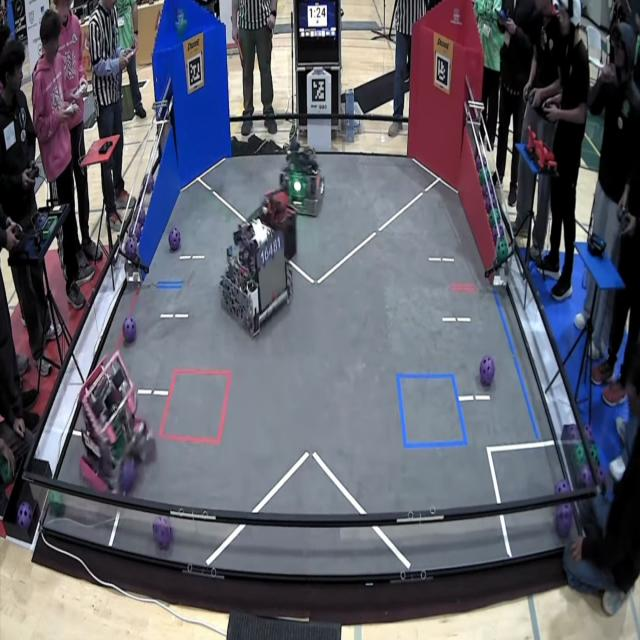artifact_green: (17, 502, 33, 529), (49, 491, 65, 517), (561, 424, 579, 445), (0, 454, 11, 483), (573, 445, 587, 467), (497, 238, 509, 262), (176, 10, 187, 36), (492, 225, 503, 246), (590, 443, 600, 465), (489, 208, 500, 228), (595, 464, 605, 486), (479, 168, 490, 185), (176, 19, 186, 37), (485, 194, 494, 214), (486, 202, 496, 216), (475, 153, 483, 170), (484, 168, 491, 187), (479, 168, 484, 185)
artifact_purple: (555, 503, 573, 540), (153, 517, 173, 550), (120, 458, 136, 493), (480, 356, 495, 387), (17, 502, 32, 529), (123, 317, 136, 343), (562, 424, 579, 442), (579, 464, 592, 487), (125, 236, 137, 260), (169, 228, 181, 252), (555, 479, 571, 494), (596, 464, 605, 486), (144, 175, 154, 193), (584, 425, 594, 443), (492, 226, 503, 242), (138, 206, 146, 227), (490, 187, 498, 208), (134, 223, 142, 242), (137, 184, 145, 202), (485, 196, 493, 212), (482, 183, 490, 198), (475, 155, 482, 171), (492, 227, 498, 244), (499, 226, 504, 238)
